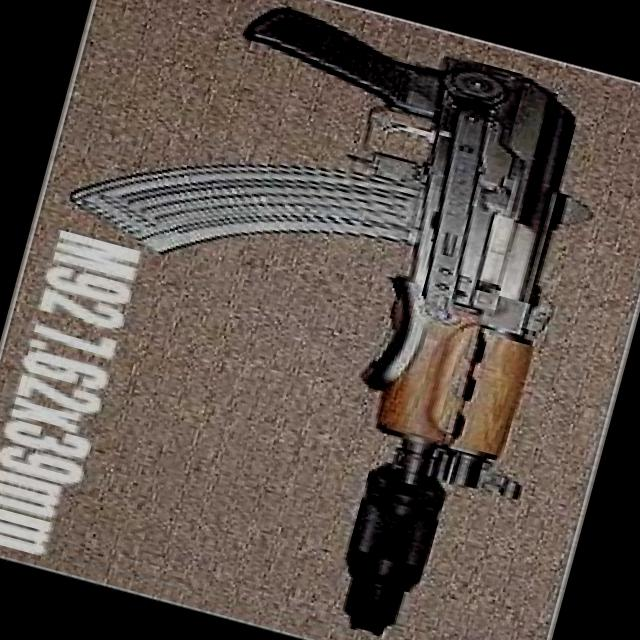long weapon: (55, 0, 595, 639)
